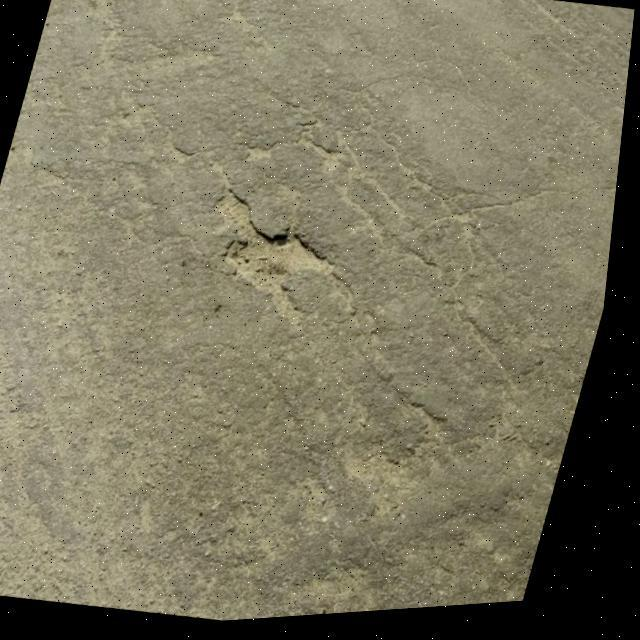pothole: (172, 165, 379, 338)
